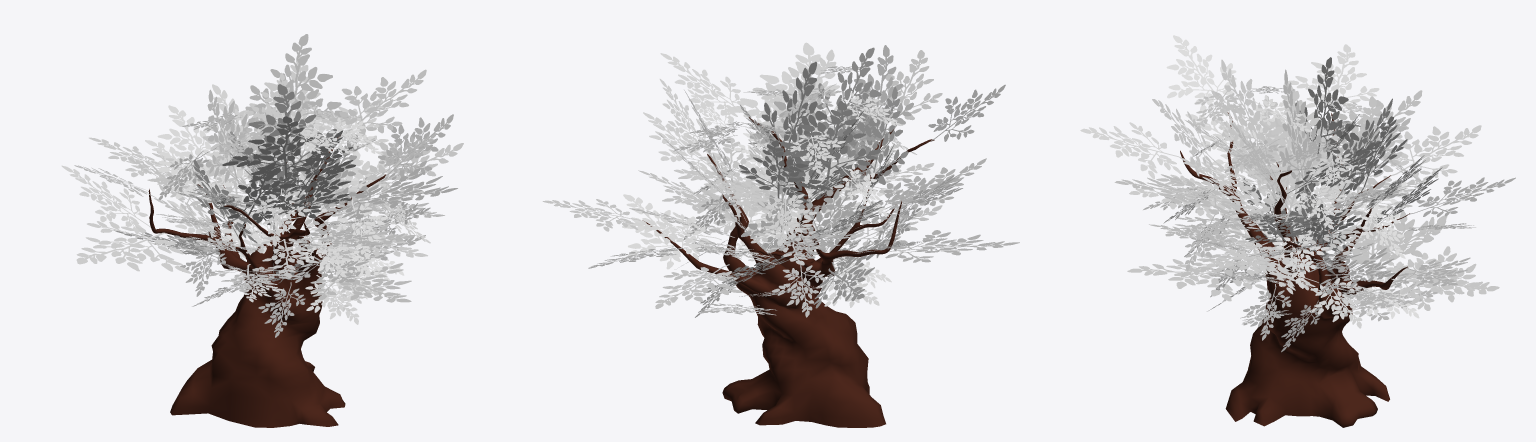
The model's file is ArvoreLaranjaDaniel.fbx.
3 renders of one model, left to right at view 1: azimuth 30°, elevation 25°; view 2: azimuth 150°, elevation 25°; view 3: azimuth 270°, elevation 25°, orthographic.
Visible parts, largest first — view 1: Arvore.002, Folha.028, Folha.050, Folha.008, Folha.051, Folha.052, Folha.061, Folha.033, Folha.023, Folha.027, Folha.049, Folha.019 (+44 smaller); view 2: Arvore.002, Folha.049, Folha.052, Folha.051, Folha.047, Folha.031, Folha.061, Folha.023, Folha.008, Folha.028, Folha.014, Folha.055 (+40 smaller); view 3: Arvore.002, Folha.004, Folha.032, Folha.030, Folha.048, Folha.001, Folha.049, Folha.033, Folha.052, Folha.051, Folha.003, Folha.016 (+56 smaller).
Part boxes in pixels (left/top/right/bottom): Arvore.002: left=148, top=135, right=385, bottom=427; Folha.028: left=76, top=221, right=195, bottom=273; Folha.050: left=249, top=34, right=348, bottom=146; Folha.008: left=328, top=69, right=426, bottom=137; Folha.051: left=222, top=116, right=333, bottom=183; Folha.052: left=229, top=84, right=336, bottom=187; Folha.061: left=334, top=168, right=457, bottom=219; Folha.033: left=310, top=263, right=411, bottom=302; Folha.023: left=217, top=162, right=304, bottom=225; Folha.027: left=61, top=165, right=150, bottom=234; Folha.049: left=205, top=89, right=254, bottom=183; Folha.019: left=358, top=140, right=463, bottom=197; Arvore.002: left=642, top=117, right=934, bottom=427; Folha.049: left=767, top=101, right=880, bottom=186; Folha.052: left=761, top=61, right=830, bottom=189; Folha.051: left=816, top=47, right=881, bottom=157; Folha.047: left=739, top=140, right=830, bottom=203; Folha.031: left=622, top=194, right=701, bottom=269; Folha.061: left=727, top=42, right=856, bottom=150; Folha.023: left=847, top=87, right=908, bottom=194; Folha.008: left=660, top=53, right=748, bottom=123; Folha.028: left=885, top=230, right=1019, bottom=262; Folha.014: left=655, top=264, right=745, bottom=308; Folha.055: left=838, top=45, right=913, bottom=155; Arvore.002: left=1180, top=112, right=1409, bottom=427; Folha.004: left=1378, top=125, right=1481, bottom=178; Folha.032: left=1342, top=209, right=1447, bottom=282; Folha.030: left=1391, top=246, right=1499, bottom=310; Folha.048: left=1247, top=82, right=1338, bottom=191; Folha.001: left=1166, top=35, right=1236, bottom=113; Folha.049: left=1295, top=57, right=1359, bottom=164; Folha.033: left=1127, top=252, right=1267, bottom=301; Folha.052: left=1279, top=69, right=1321, bottom=203; Folha.051: left=1221, top=59, right=1277, bottom=162; Folha.003: left=1288, top=44, right=1379, bottom=116; Folha.016: left=1080, top=122, right=1181, bottom=179.
Size of the model in its own units: 961 by 716 by 838.
